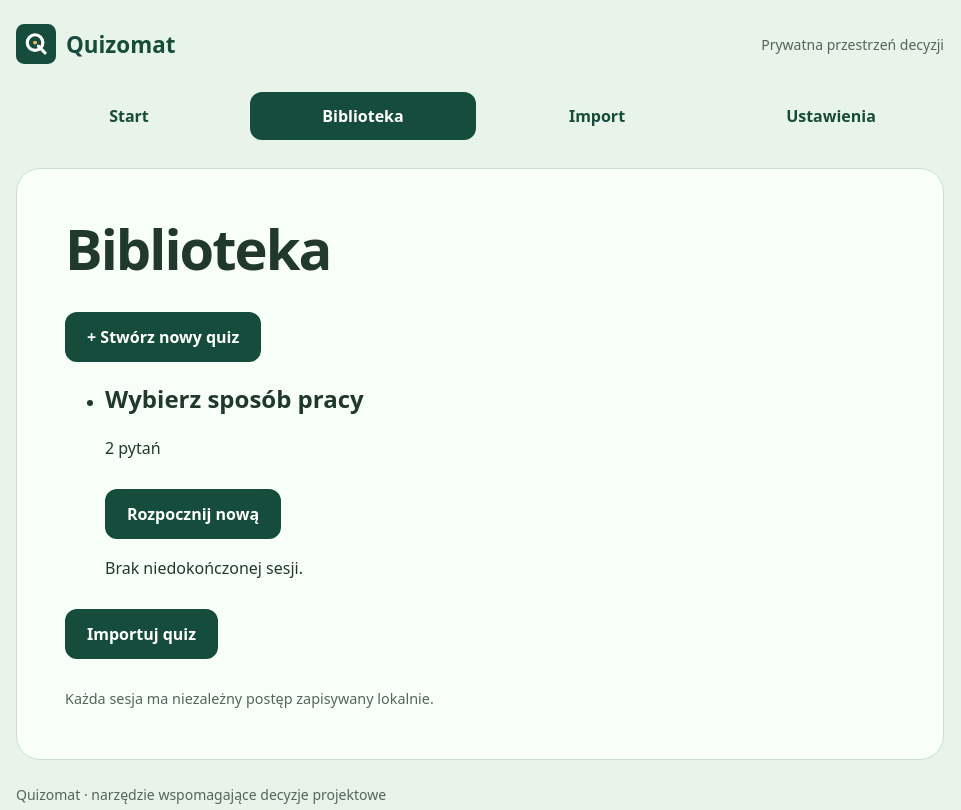
Quiz uruchamiany z istniejącej Biblioteki › pokazuje kompaktowy bilans z dostępnymi etykietami i nie wybiera rekomendacji
Click the button "Rozpocznij nową".
click(193, 514)  # box [105,489,281,539]
(page scrolled)
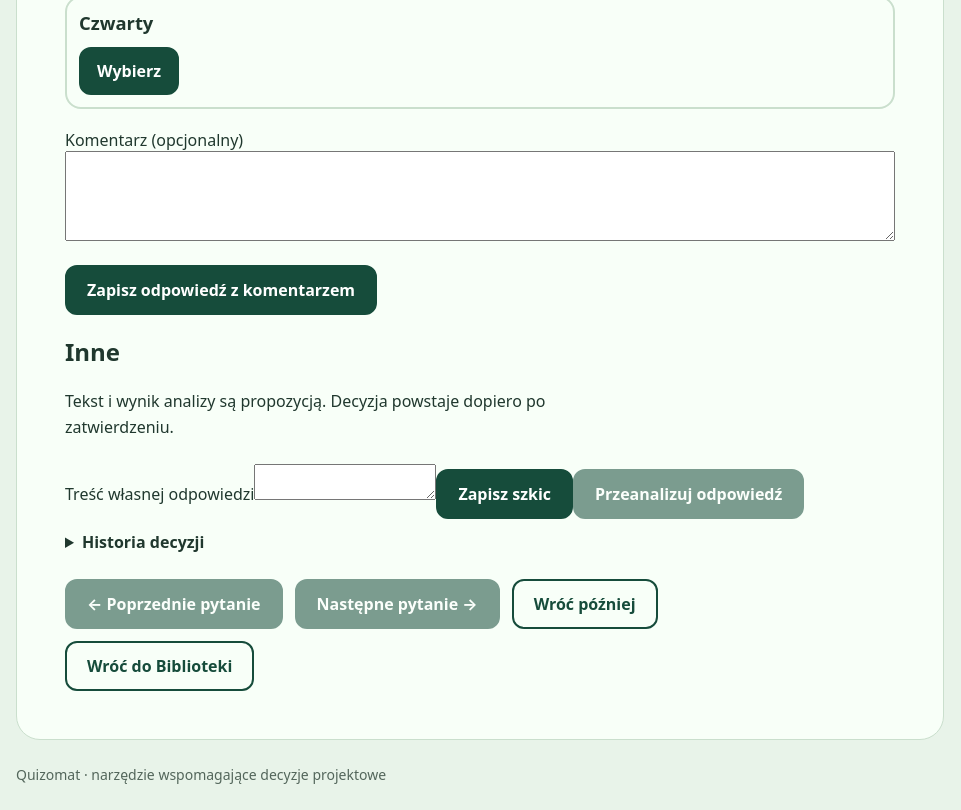
Expected: the button "← Poprzednie pytanie" is disabled, [65,579,282,629]
Expected: the button "Następne pytanie →" is disabled, [294,579,500,629]
